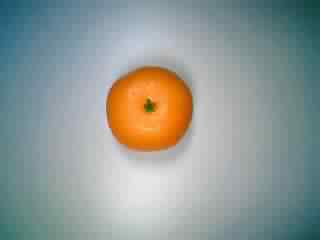orange: (100, 59, 195, 161)
